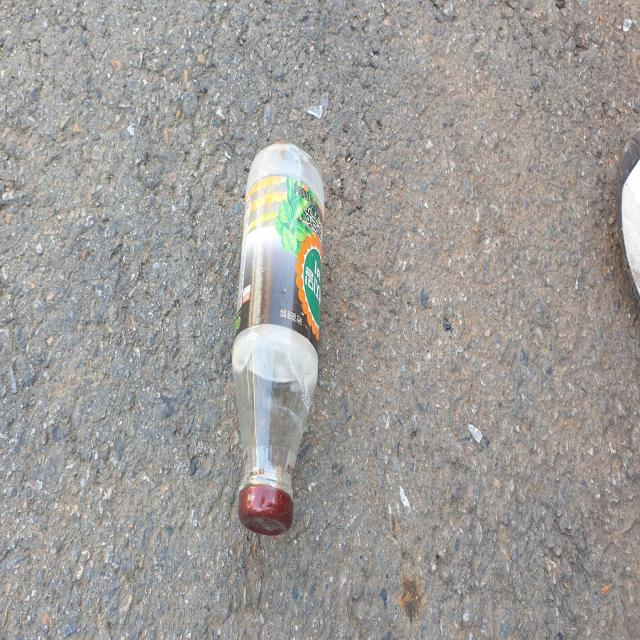glass: (232, 140, 324, 535)
